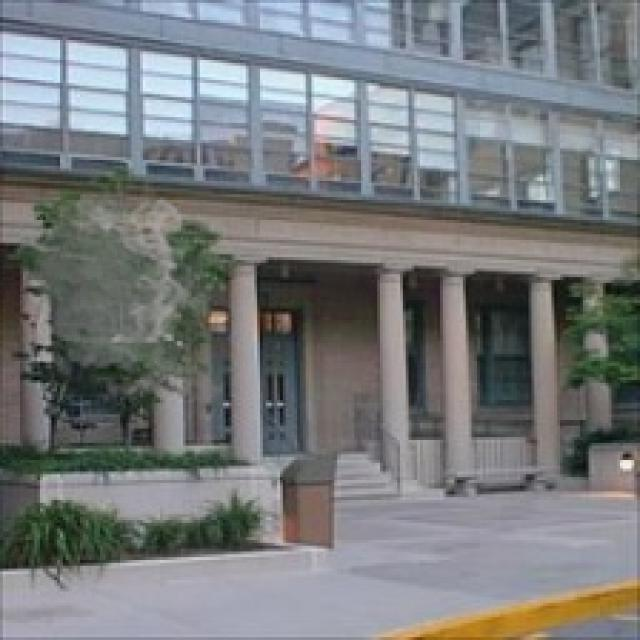smoke: (12, 192, 255, 412)
